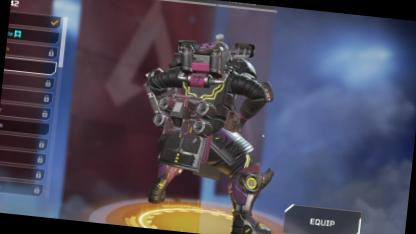Target: (138, 27, 278, 190)
